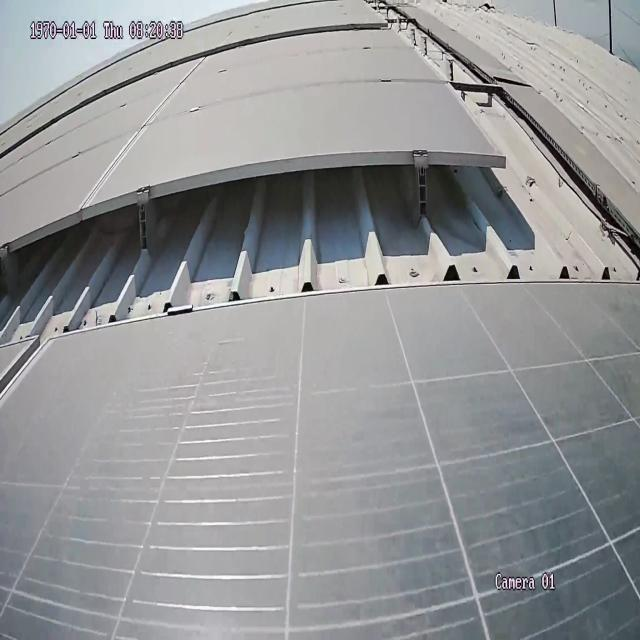interior panel: (61, 54, 213, 217), (0, 341, 64, 420)
outher panel: (0, 0, 640, 341)
